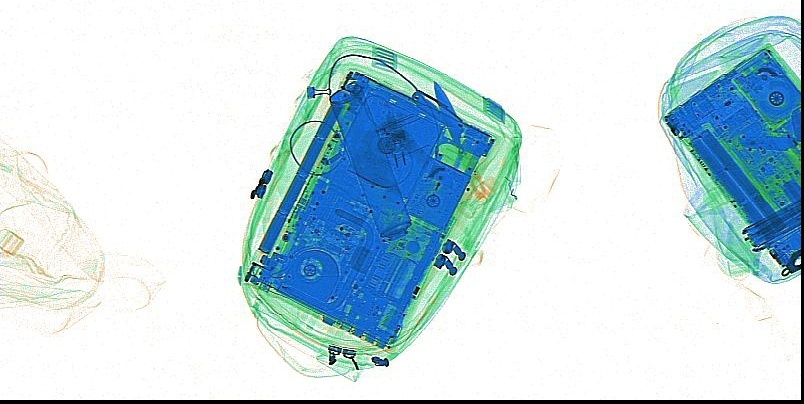knife: (431, 79, 488, 201), (410, 89, 466, 129), (737, 134, 798, 151)
pressure: (328, 81, 411, 242)
